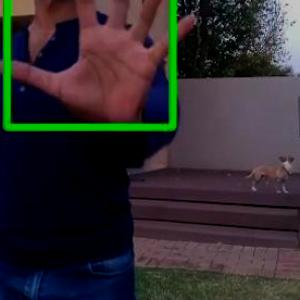follow_hand: (1, 0, 210, 129)
